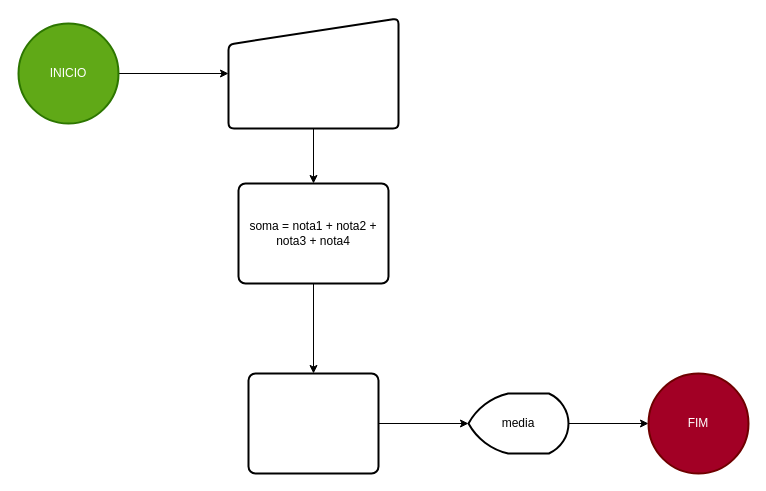
Some shapes in this 766 by 491 pixel diagram are drawn without their labels. Here are the shapes that lost their labels. From the top down, the centre of each, then its label:
At (x=313, y=73): "nota1 = X nota2 = X nota3 = X nota4 = X".
At (x=313, y=423): "media = soma / 4".
